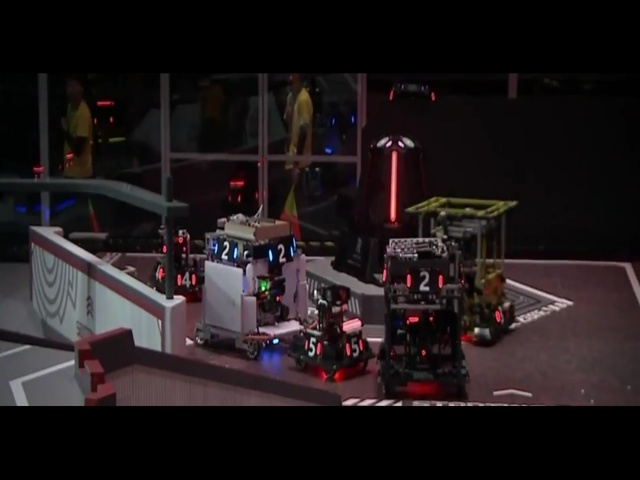bluePlate: (256, 206, 298, 230), (375, 352, 409, 379), (124, 299, 156, 323), (249, 135, 280, 157)
redPlate: (272, 320, 323, 350), (343, 307, 359, 338)
